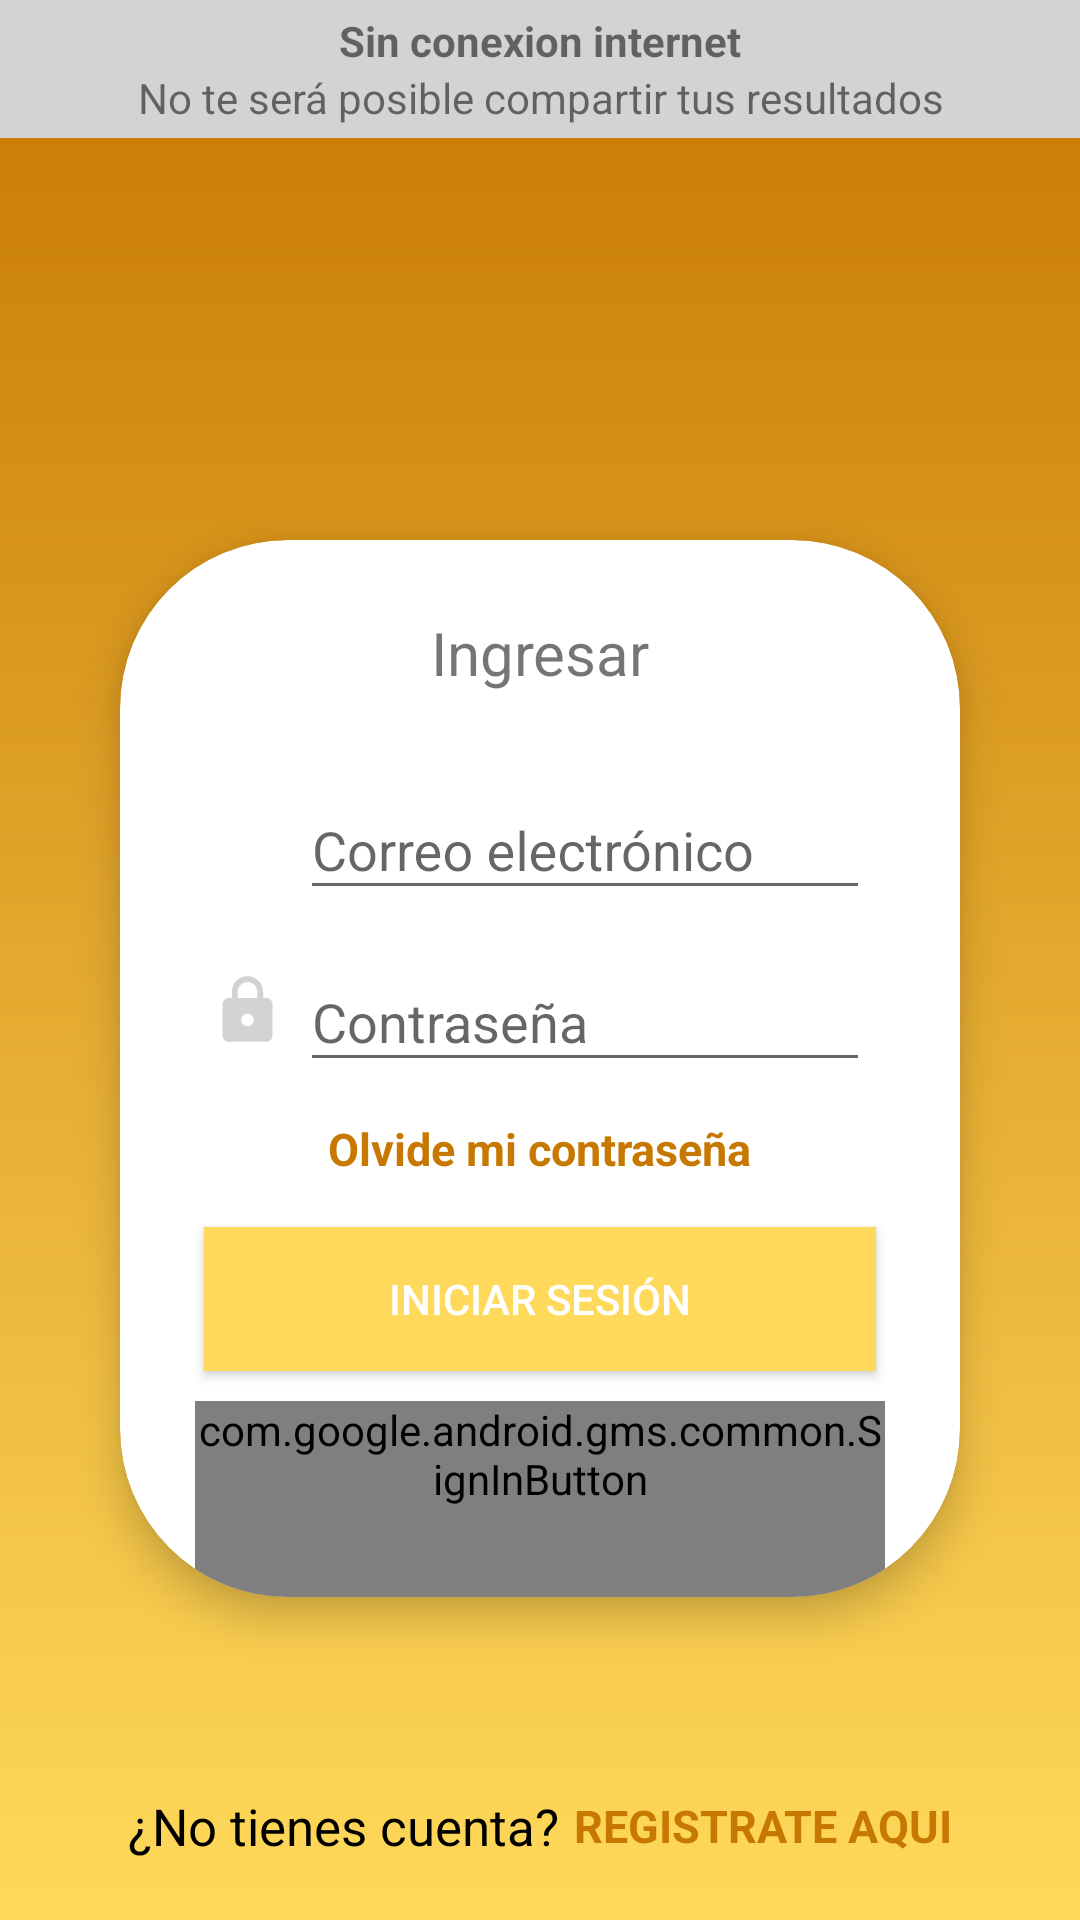

Icon click points for this 1080px×1920px phone screenshot, format [x,y]:
lock: [247,1009]
